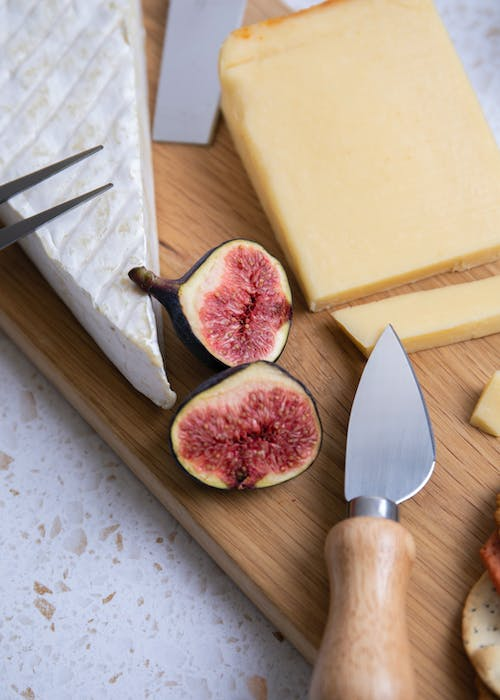knife: (297, 315, 445, 700)
